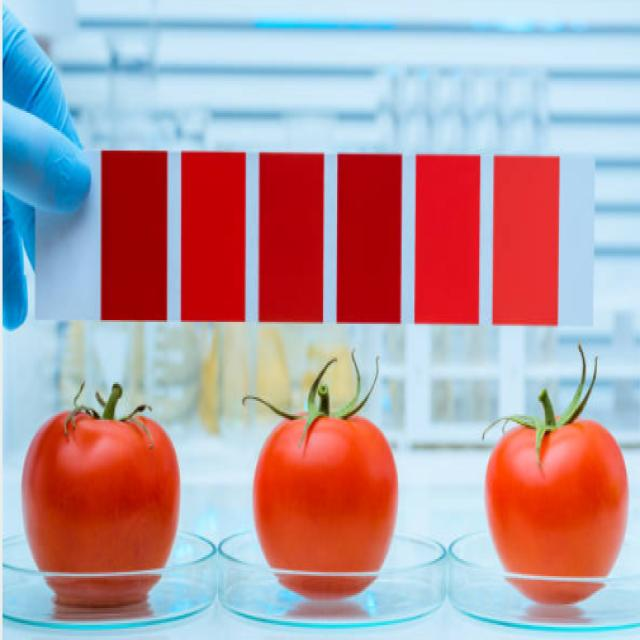Tomato: (27, 388, 186, 598), (250, 368, 396, 590), (486, 378, 630, 602)
